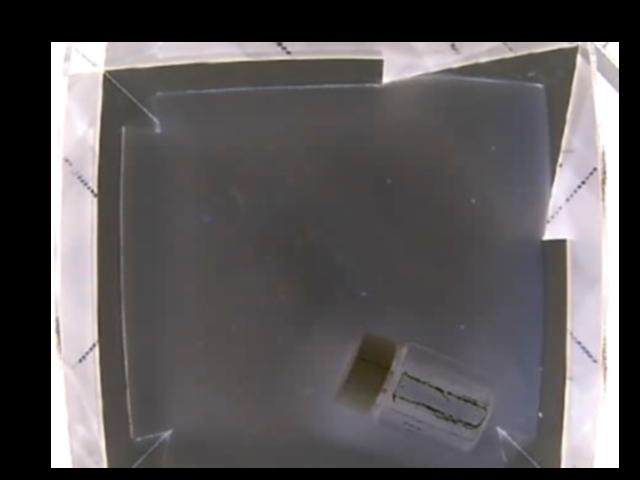Bottle: (333, 333, 492, 447)
